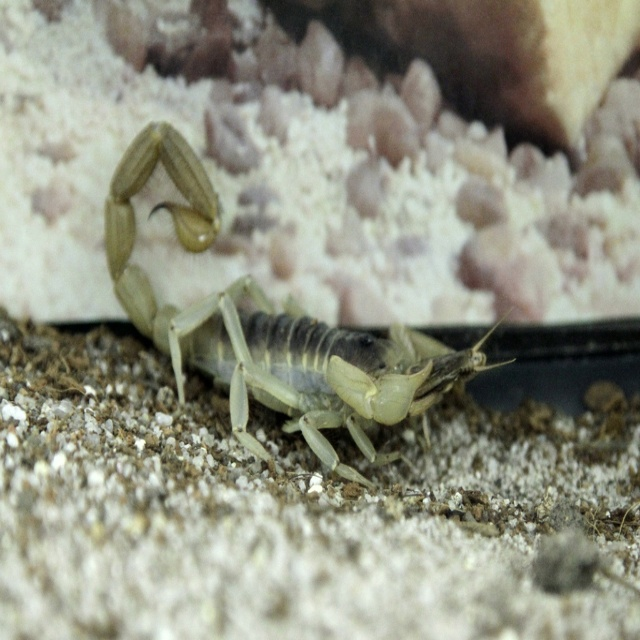Scorpion: (104, 120, 516, 488)
